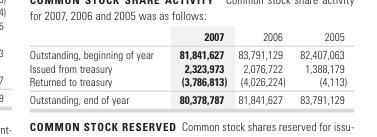table: (28, 29, 346, 106)
table column: (28, 29, 165, 106), (165, 29, 231, 106), (231, 29, 291, 106), (291, 29, 346, 106)
table column header: (28, 29, 346, 45)
table row: (28, 29, 346, 45), (28, 74, 346, 90), (28, 90, 346, 106), (28, 45, 346, 60), (28, 60, 346, 74)
